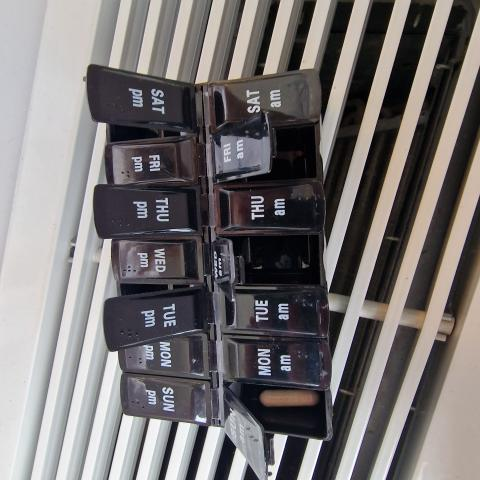Open: (229, 379, 325, 465), (221, 116, 322, 186), (231, 231, 318, 288), (95, 117, 190, 142), (101, 282, 204, 303)
